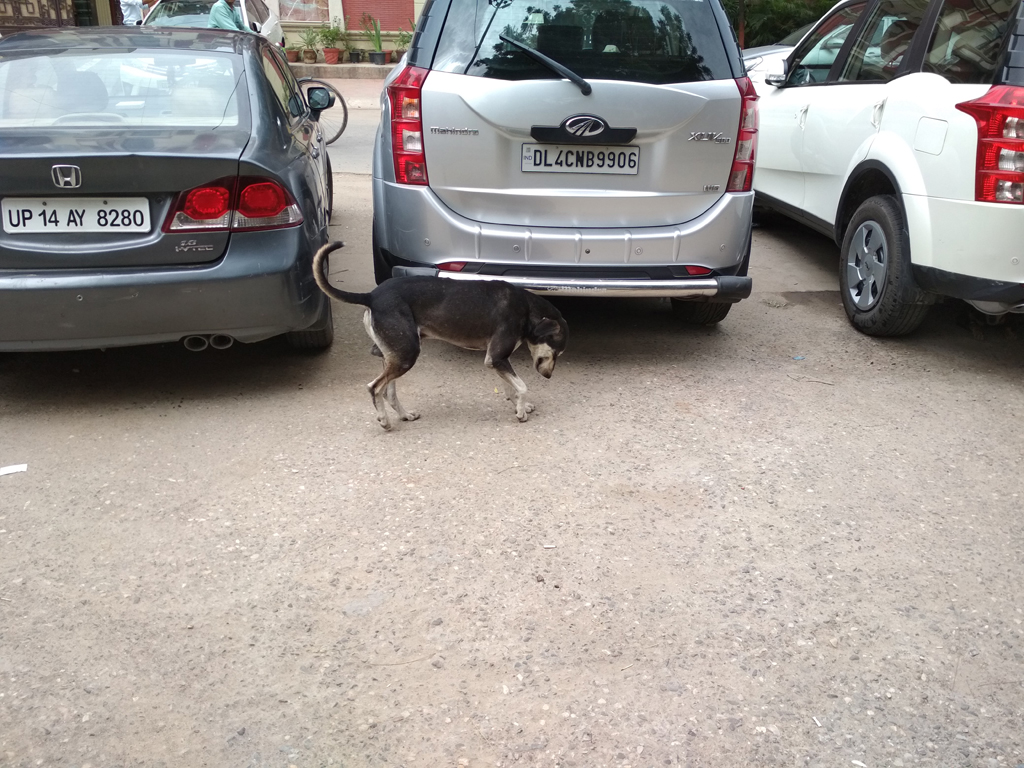dog: (312, 241, 568, 432)
